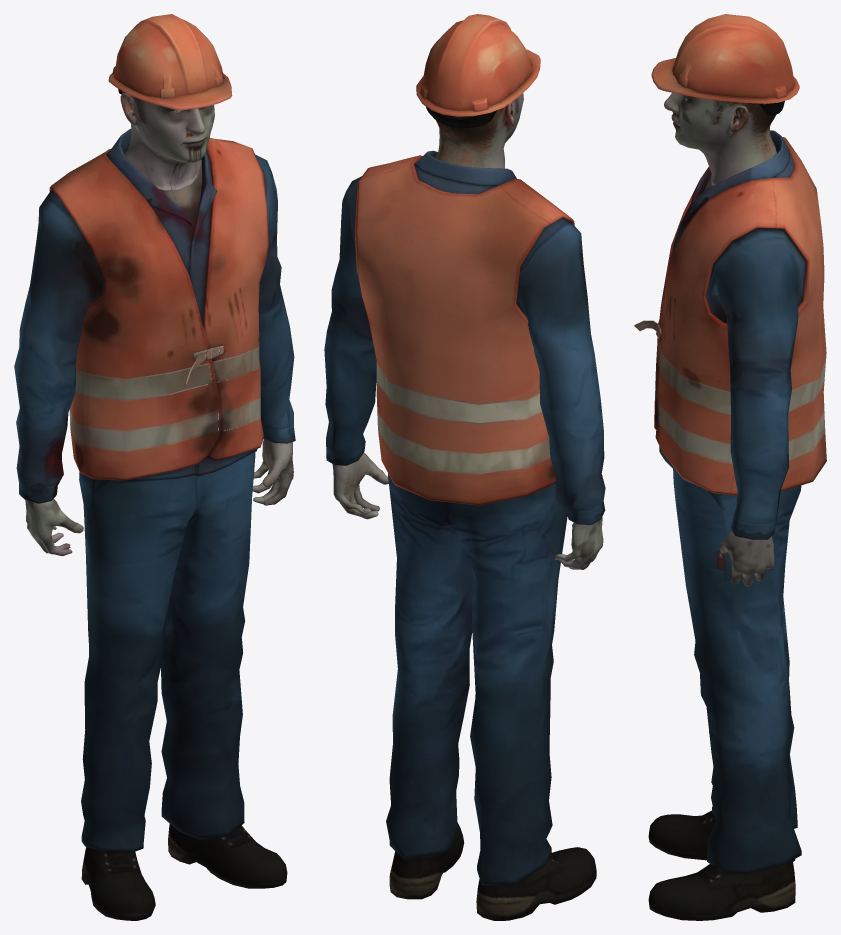
The model's file is worker.glb.
3 views of the same model, side by side, from view 1: azimuth 30°, elevation 25°; view 2: azimuth 150°, elevation 25°; view 3: azimuth 270°, elevation 25° (orthographic).
Visible parts, largest first — view 1: worker; view 2: worker; view 3: worker.
Part boxes in pixels (x1,y1,x2,y2): worker: [14, 14, 295, 920]; worker: [324, 14, 605, 920]; worker: [634, 14, 826, 920].
Size of the model in its own units: 0.6045 by 1.84 by 0.373.
3 materials, 3 textured.
